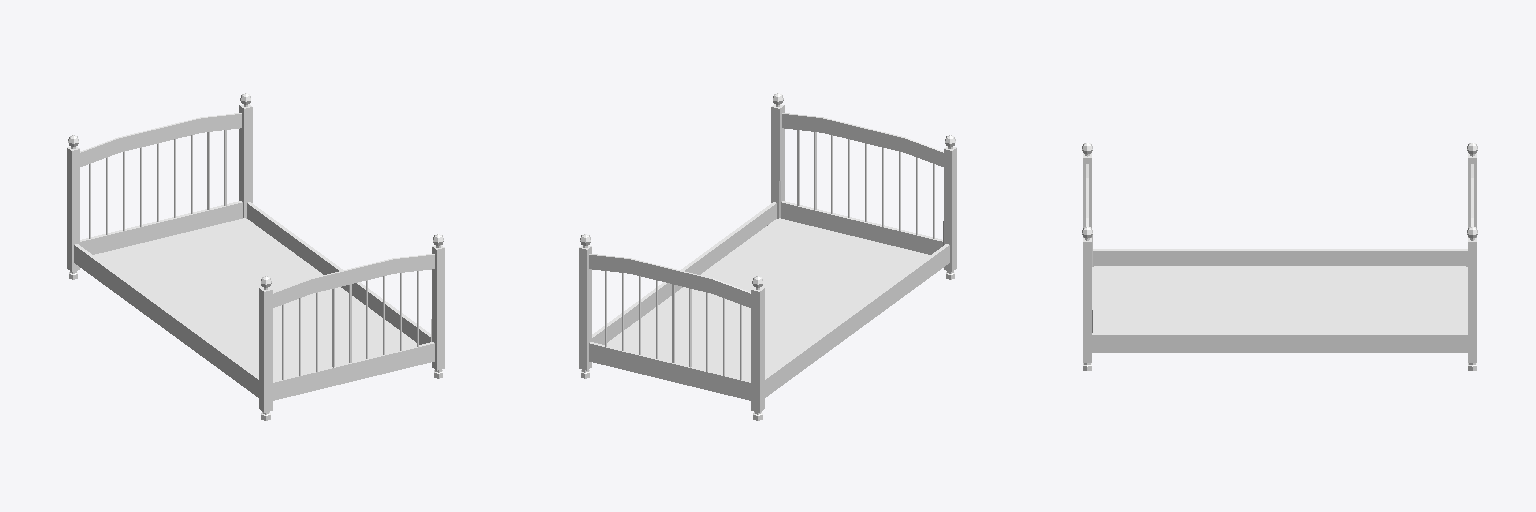
File: Cama_base.obj
3 renders of one model, left to right at view 1: azimuth 30°, elevation 25°; view 2: azimuth 150°, elevation 25°; view 3: azimuth 270°, elevation 25°, orthographic.
Parts seen in each view (by area): view 1: Bed1; view 2: Bed1; view 3: Bed1.
Boxes of the visible parts, x1=… form: Bed1: x1=67, y1=93, x2=444, y2=420; Bed1: x1=579, y1=93, x2=956, y2=420; Bed1: x1=1082, y1=143, x2=1477, y2=370.
Bounding box in the file's own units: 1108 × 821 × 2072.